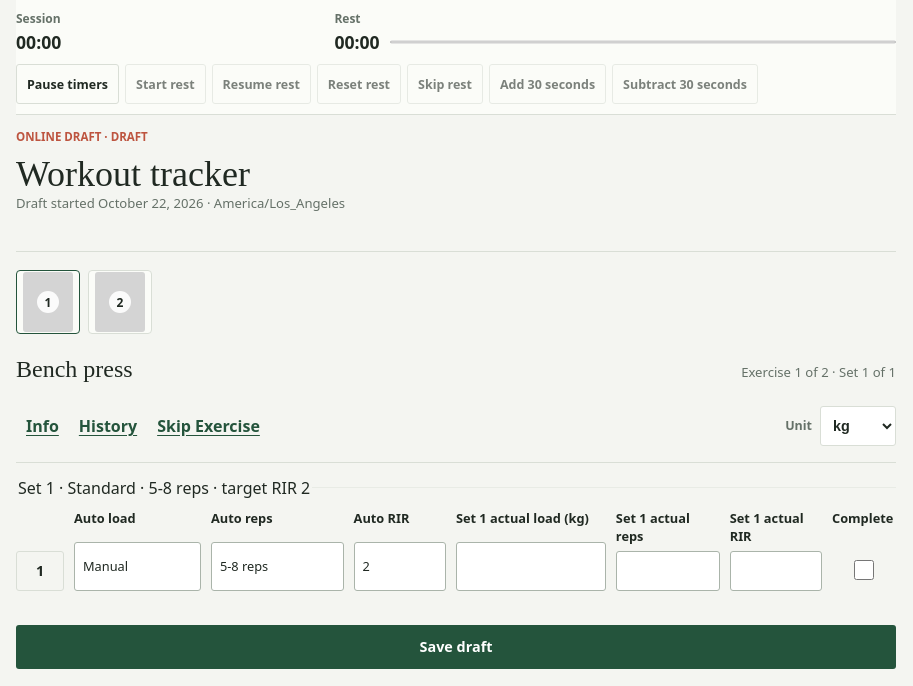
Test case: shows exercise image navigation, position text, and Info/History actions
This screenshot has width=913, height=686.
Expected: the heading "Bench press" is shown, [16,356,133,383]
Expected: the text "Exercise 1 of 2 · Set 1 of 1" is shown, [741,363,896,383]
What coordinates should you click on to do the following:
click the button named "Exercise 2: Seated row"
I would click on:
 (120, 302)
Its box is [88,270,152,334].
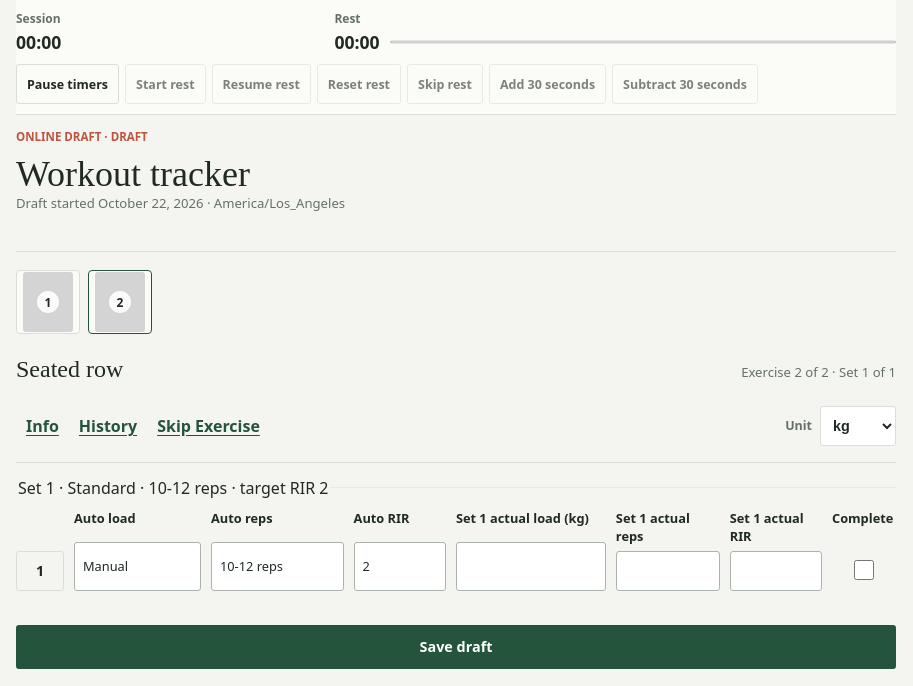
Now the heading "Seated row" is shown, box [16,356,123,383]
Now the text "Exercise 2 of 2 · Set 1 of 1" is shown, box [741,363,896,383]
